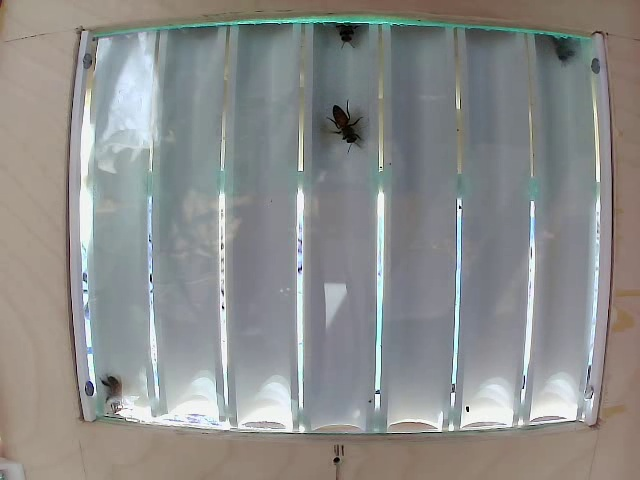bee: (314, 84, 362, 147)
